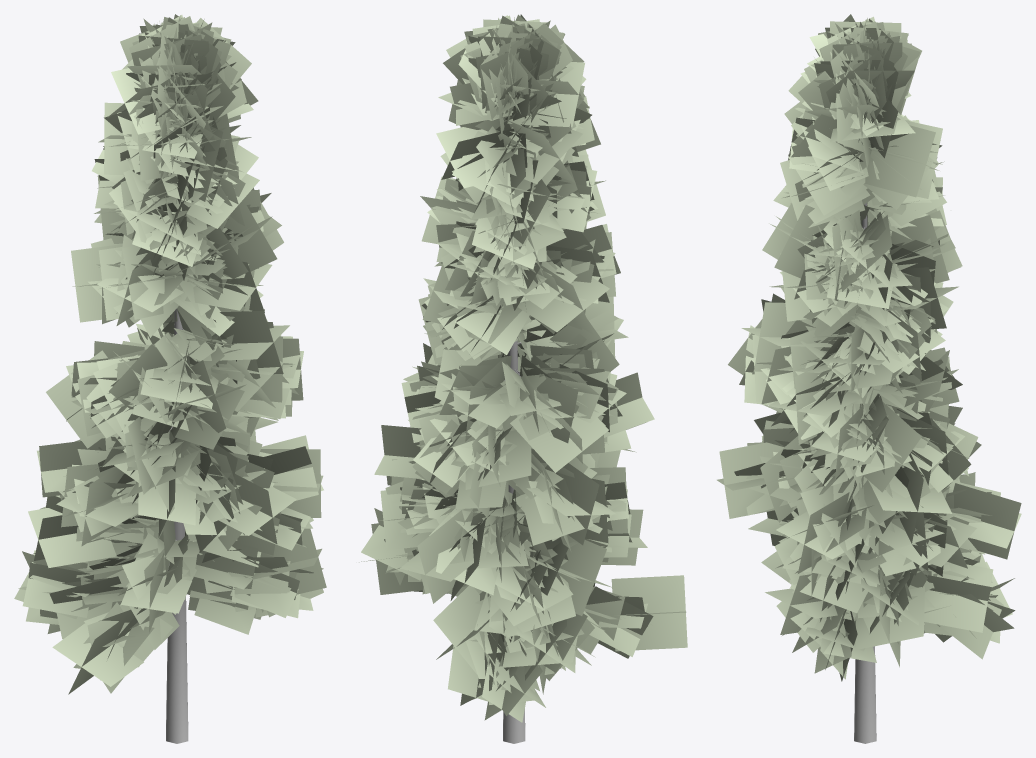
The model's file is sugi.glb.
3 views of the same model, side by side, from view 1: azimuth 30°, elevation 25°; view 2: azimuth 150°, elevation 25°; view 3: azimuth 270°, elevation 25° (orthographic).
Bounding box in the file's own units: 12.41 × 30 × 11.59.
